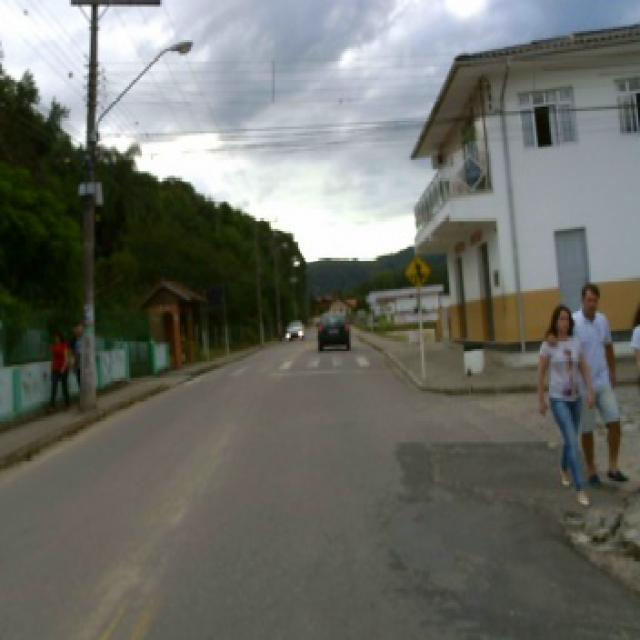Poth-hole: (556, 504, 636, 600)
